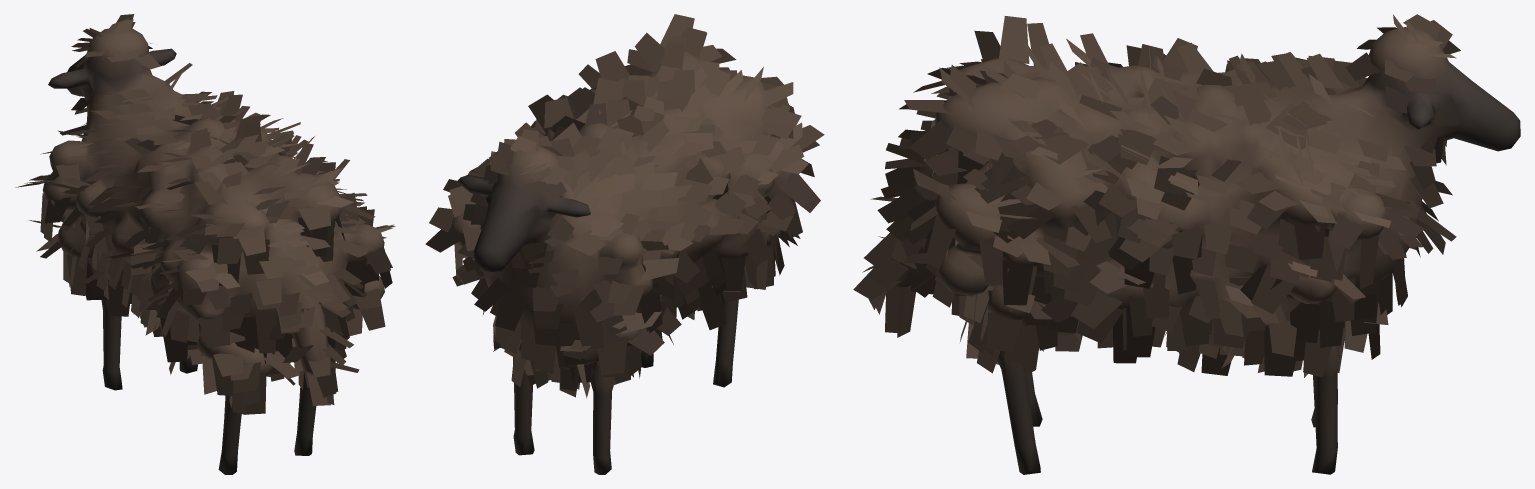
File: animale_pecora_3.glb
3 views of the same model, side by side, from view 1: azimuth 30°, elevation 25°; view 2: azimuth 150°, elevation 25°; view 3: azimuth 270°, elevation 25° (orthographic). The views are drawn at different scales.
Parts seen in each view (by area): view 1: animale_pecora_3; view 2: animale_pecora_3; view 3: animale_pecora_3.
Boxes of the visible parts, x1=… form: animale_pecora_3: x1=15, y1=14, x2=395, y2=474; animale_pecora_3: x1=425, y1=14, x2=824, y2=474; animale_pecora_3: x1=853, y1=14, x2=1520, y2=474.
Size of the model in its own units: 0.7756 by 1.03 by 1.44.
